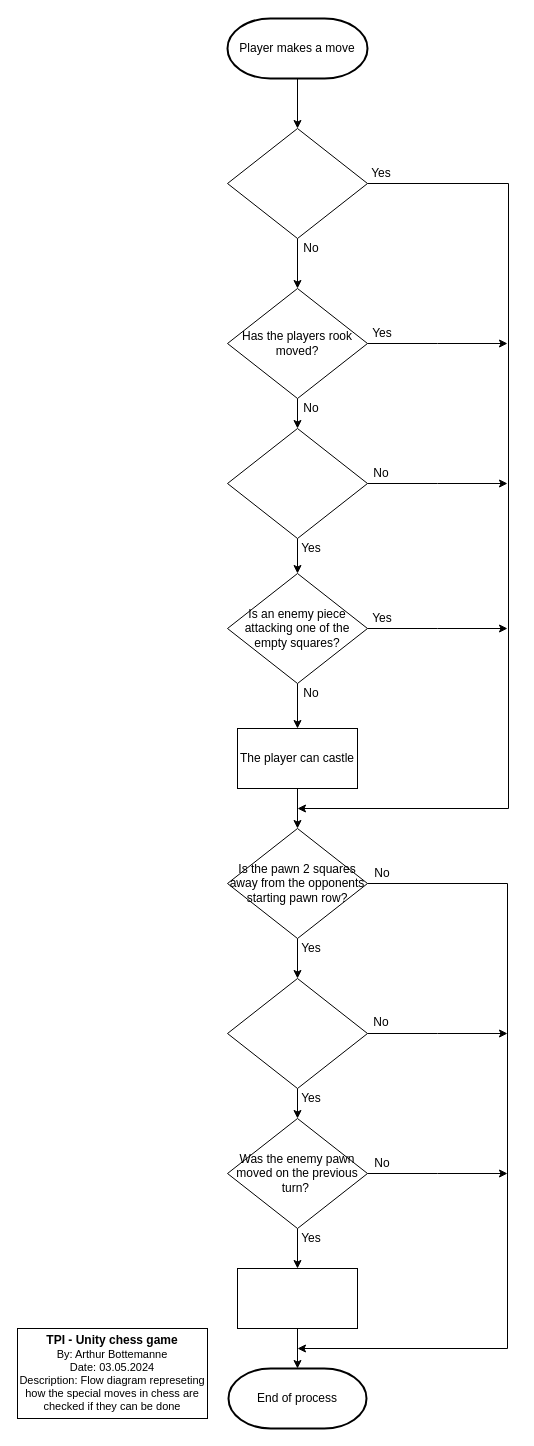
Some shapes in this 534 by 1446 pixel diagram are drawn without their labels. Each missing label, with the centre of its shape:
Are the squares between the king and the rook empty?: [297,483]
Are there any enemy pawns adjacent to the pawn?: [297,1033]
Has the players king moved?: [297,183]
Pawn can En passant: [297,1298]
